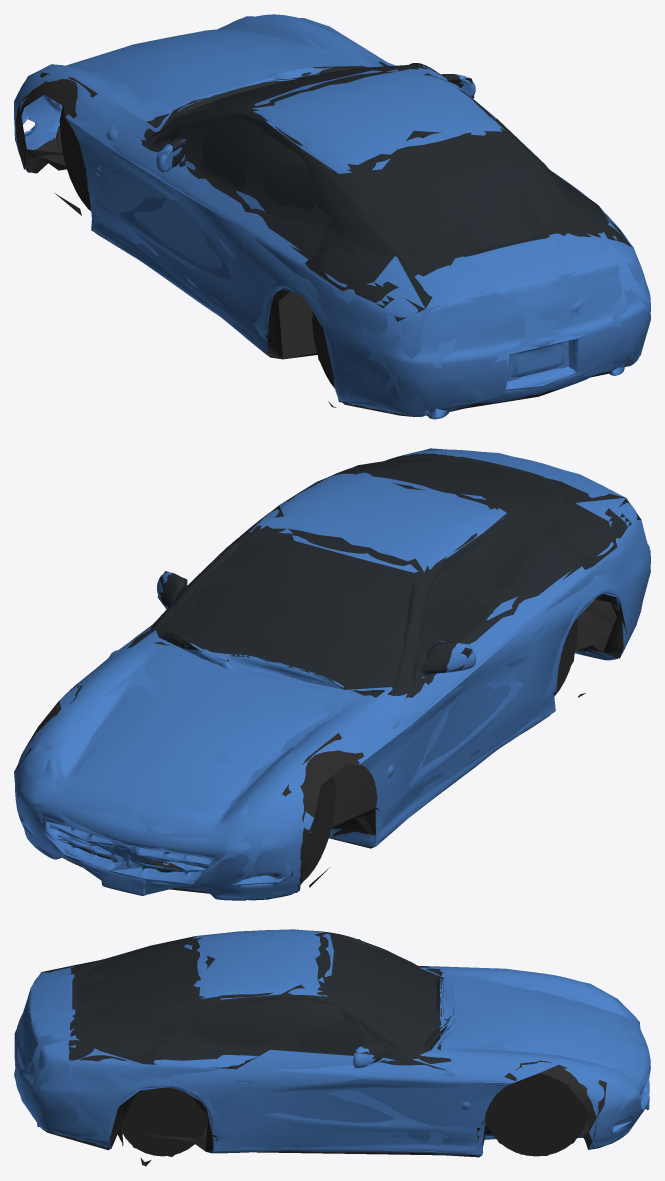
The model's file is ferrari-612-scaglietti.glb.
3 views of the same model, one above another, from view 1: azimuth 30°, elevation 25°; view 2: azimuth 150°, elevation 25°; view 3: azimuth 270°, elevation 25° (orthographic). The views are drawn at different scales.
Parts seen in each view (by area): view 1: body, far; view 2: body, far; view 3: body, far.
Boxes of the visible parts, box(x1,y1,x2,y2) form: body: box(14, 14, 650, 419); far: box(14, 16, 650, 415); body: box(15, 449, 650, 900); far: box(14, 448, 650, 899); body: box(14, 929, 650, 1166); far: box(14, 929, 650, 1164).
Bounding box in the file's own units: 2.15 × 1.43 × 4.96.
